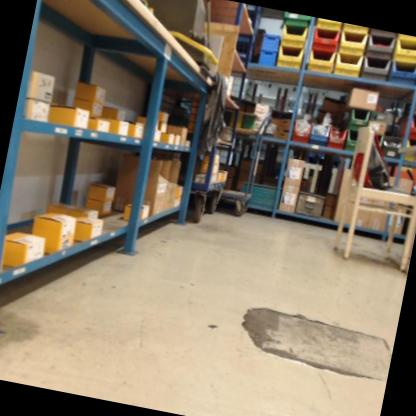small_load_carrier: (260, 33, 282, 54), (257, 51, 279, 68)
